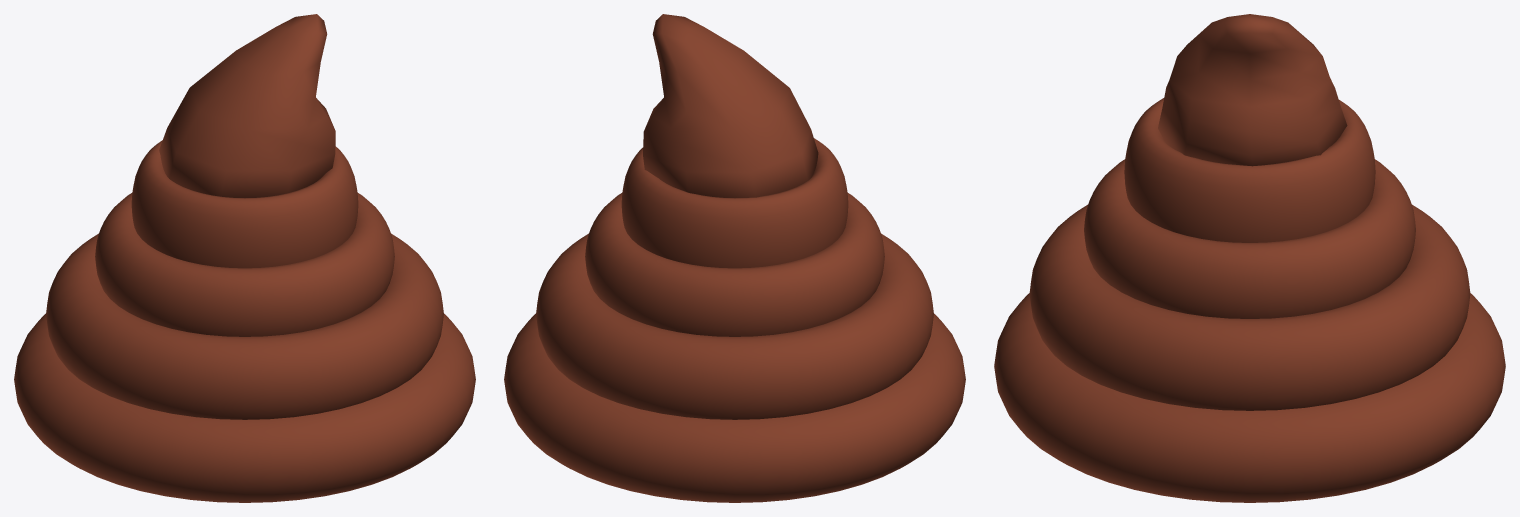
File: poop.fbx
3 views of the same model, side by side, from view 1: azimuth 30°, elevation 25°; view 2: azimuth 150°, elevation 25°; view 3: azimuth 270°, elevation 25° (orthographic). The views are drawn at different scales.
Parts seen in each view (by area): view 1: Torus.001; view 2: Torus.001; view 3: Torus.001.
Boxes of the visible parts, x1,y1,x2,y2 form: Torus.001: (14,14,475,502); Torus.001: (504,14,965,502); Torus.001: (994,14,1505,502).
Size of the model in its own units: 48.99 by 45.49 by 48.99.
